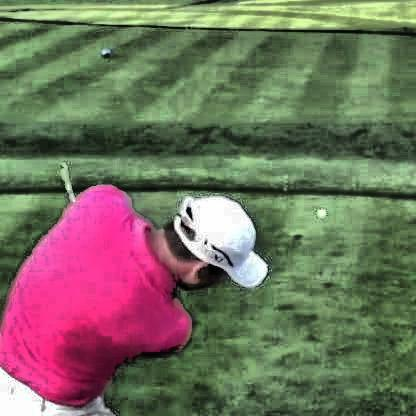golfball: (314, 206, 324, 215)
